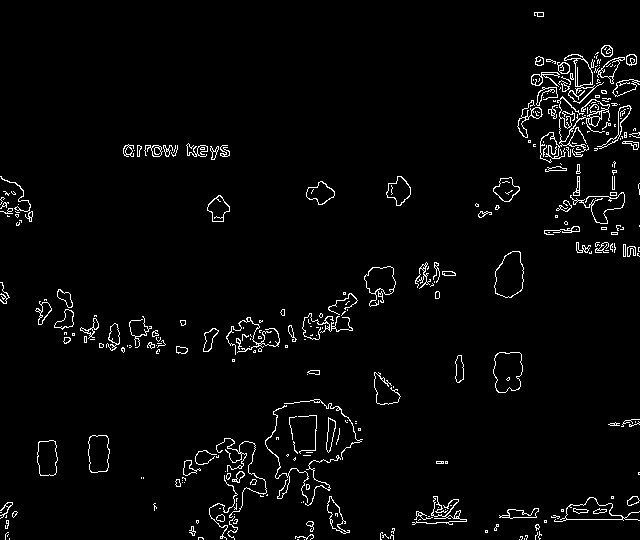down: (487, 171, 525, 210)
right: (379, 169, 422, 213), (301, 175, 345, 215)
up: (198, 187, 238, 231)
